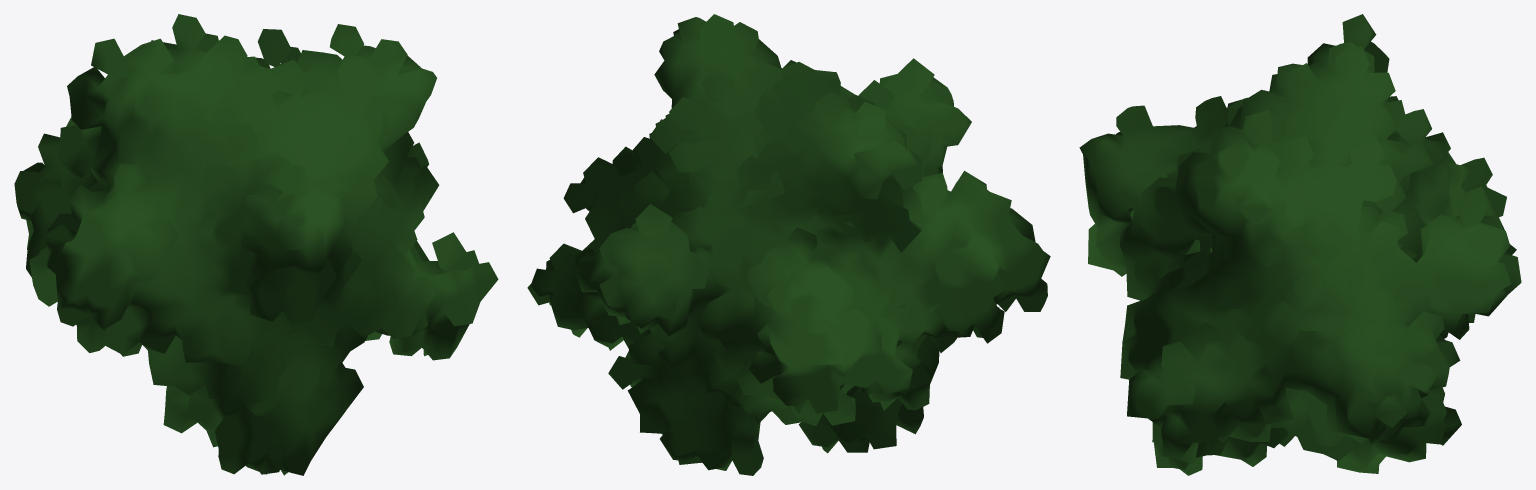
The model's file is bush.glb.
3 views of the same model, side by side, from view 1: azimuth 30°, elevation 25°; view 2: azimuth 150°, elevation 25°; view 3: azimuth 270°, elevation 25° (orthographic). The views are drawn at different scales.
Parts seen in each view (by area): view 1: Foliage_0; view 2: Foliage_0; view 3: Foliage_0.
Part boxes in pixels (<box>): Foliage_0: <box>14,14,498,475</box>; Foliage_0: <box>527,14,1050,475</box>; Foliage_0: <box>1079,14,1521,475</box>.
Bounding box in the file's own units: 2.8 × 2.62 × 2.51.
